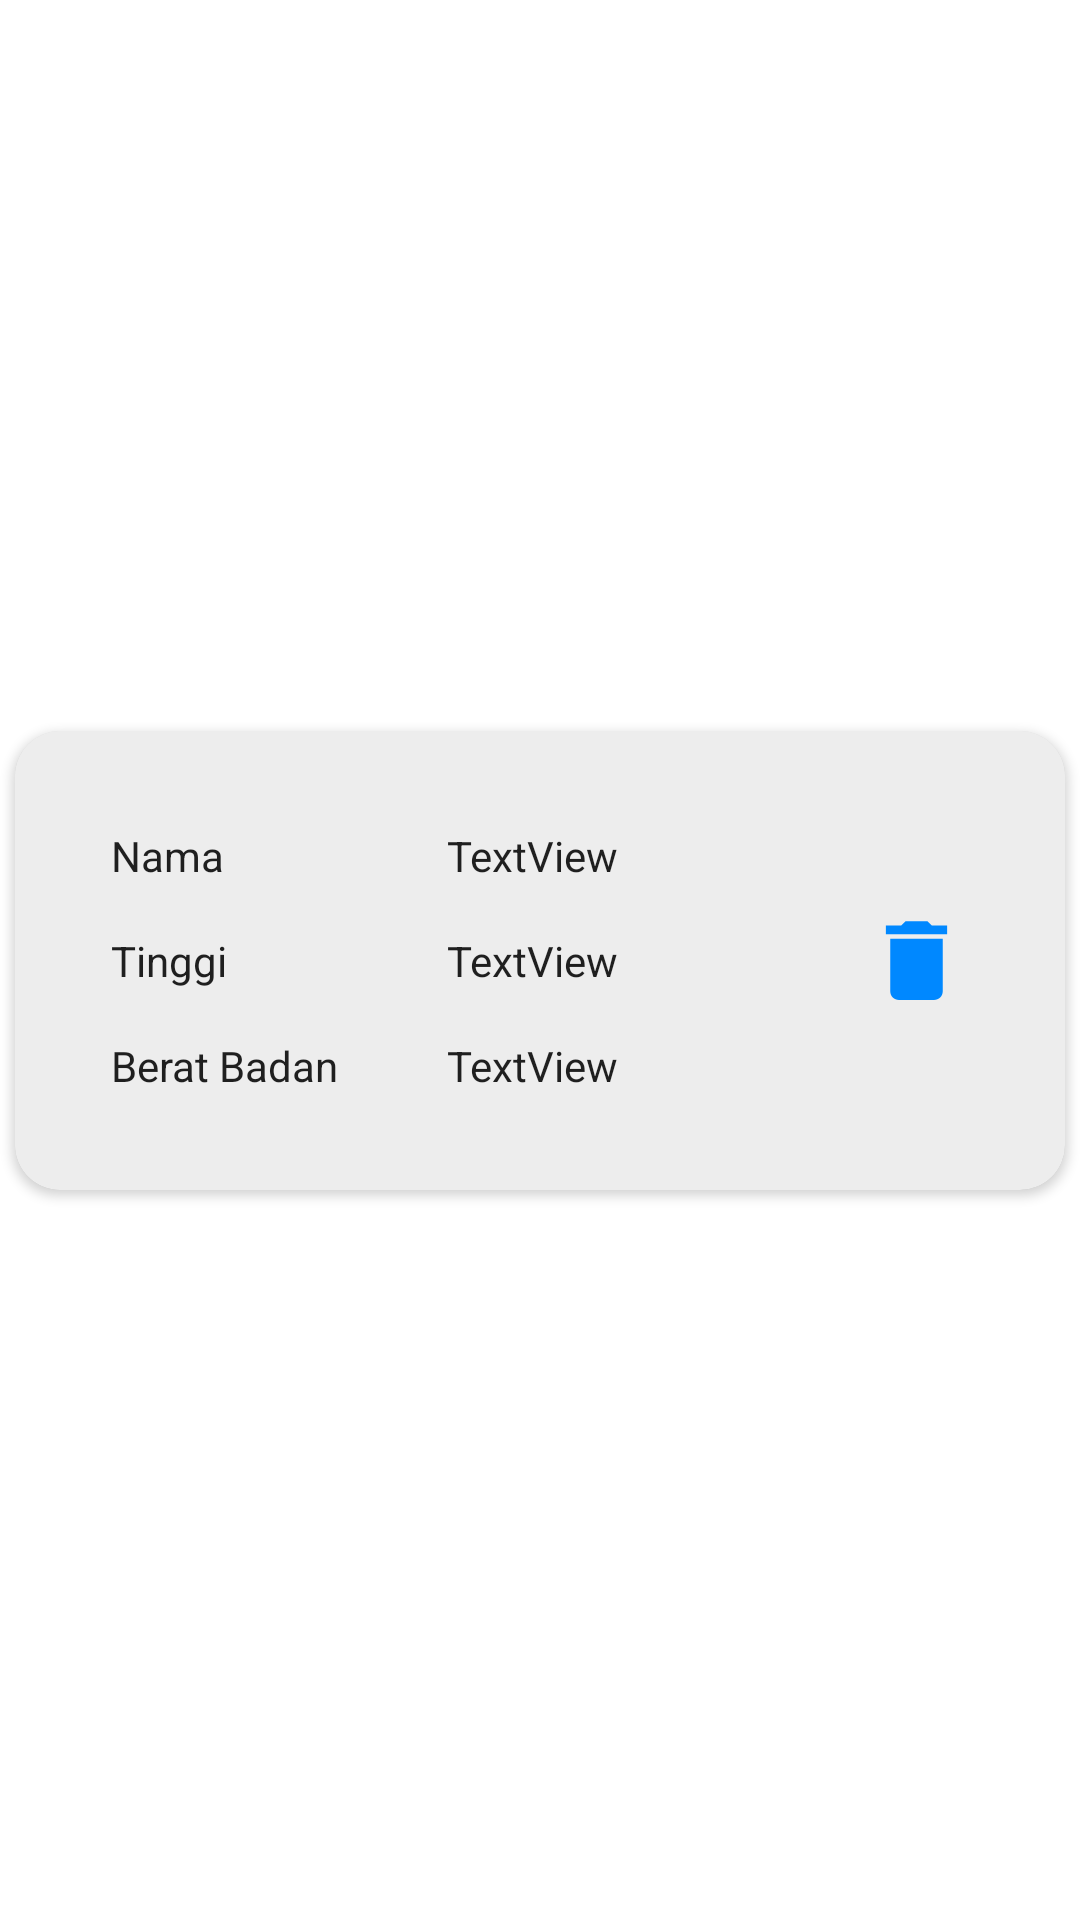

Icons on this 1080w x 1920h Android screen, each with the point to tap as (x=x, y=y):
delete: (x=916, y=960)
